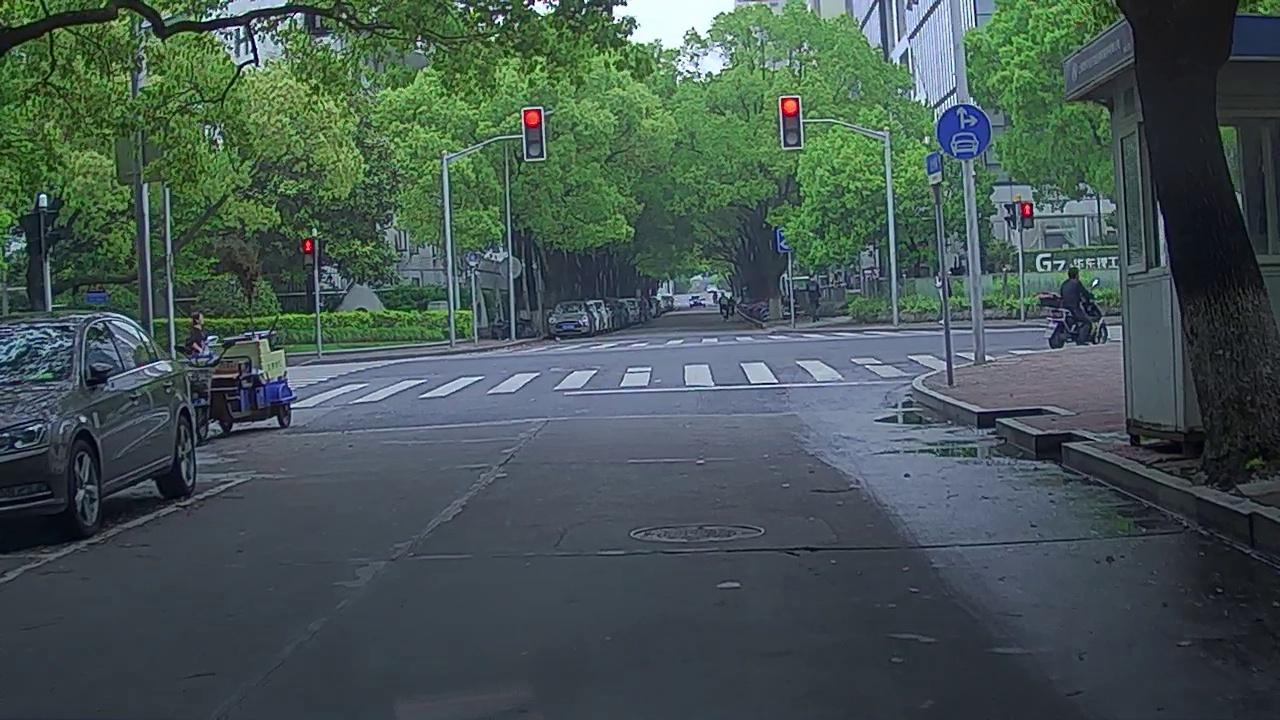traffic_light: (522, 109, 544, 160), (781, 96, 802, 149)
